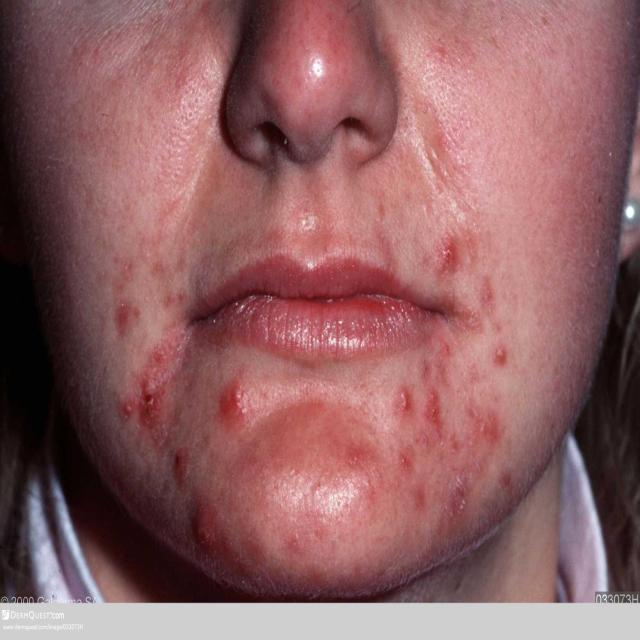Acne: (138, 337, 170, 444), (188, 487, 225, 559), (213, 373, 251, 428), (443, 468, 474, 521), (434, 231, 462, 284), (110, 296, 142, 340), (167, 443, 195, 490), (419, 386, 446, 429), (391, 376, 414, 426), (342, 436, 364, 481), (477, 272, 497, 318), (479, 409, 501, 449), (490, 336, 512, 373), (116, 391, 141, 423), (395, 441, 415, 481), (496, 464, 516, 493), (410, 482, 429, 512)
